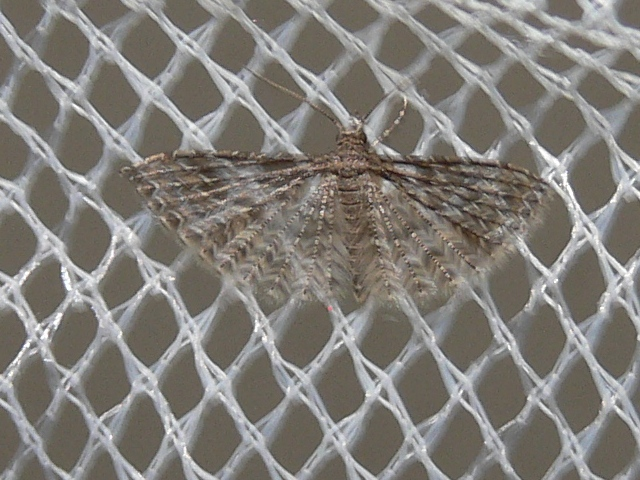Alucitidae: (126, 57, 561, 313)
moth: (124, 55, 559, 311)
